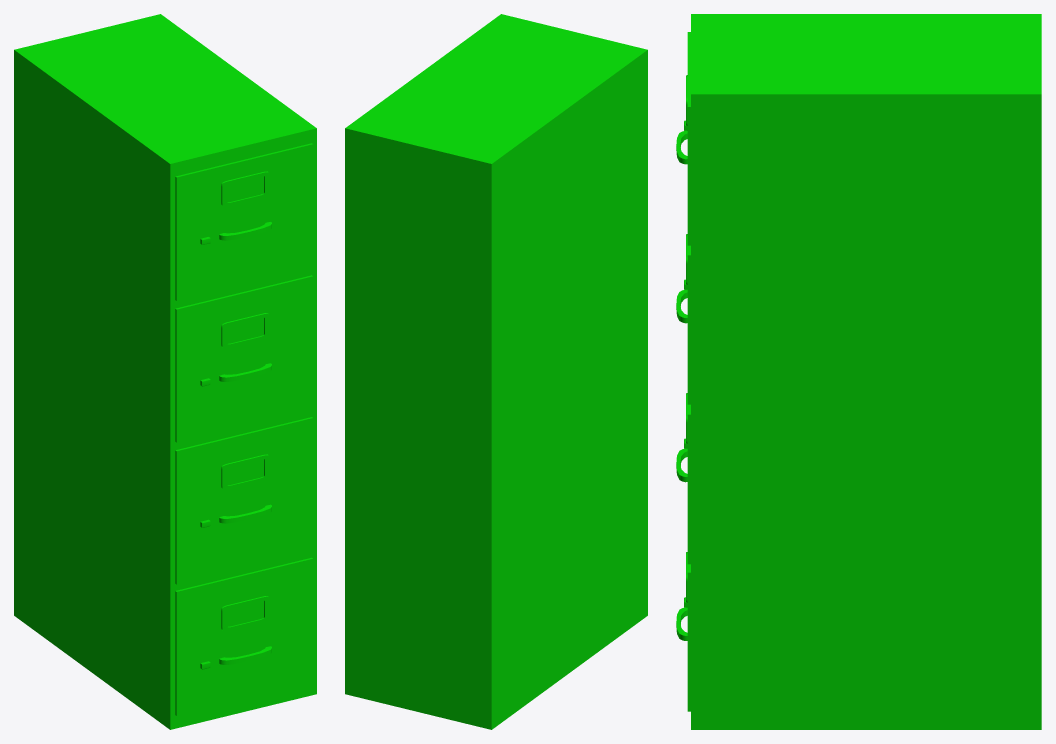
File: FilingCabinet.fbx
3 views of the same model, side by side, from view 1: azimuth 30°, elevation 25°; view 2: azimuth 150°, elevation 25°; view 3: azimuth 270°, elevation 25° (orthographic). The views are drawn at different scales.
Parts seen in each view (by area): view 1: filecabinet; view 2: filecabinet; view 3: filecabinet.
Boxes of the visible parts, box(x1,y1,x2,y2) form: filecabinet: box(14, 14, 316, 729); filecabinet: box(345, 14, 647, 729); filecabinet: box(676, 14, 1041, 729).
Bounding box in the file's own units: 0.5422 × 2 × 1.04.
